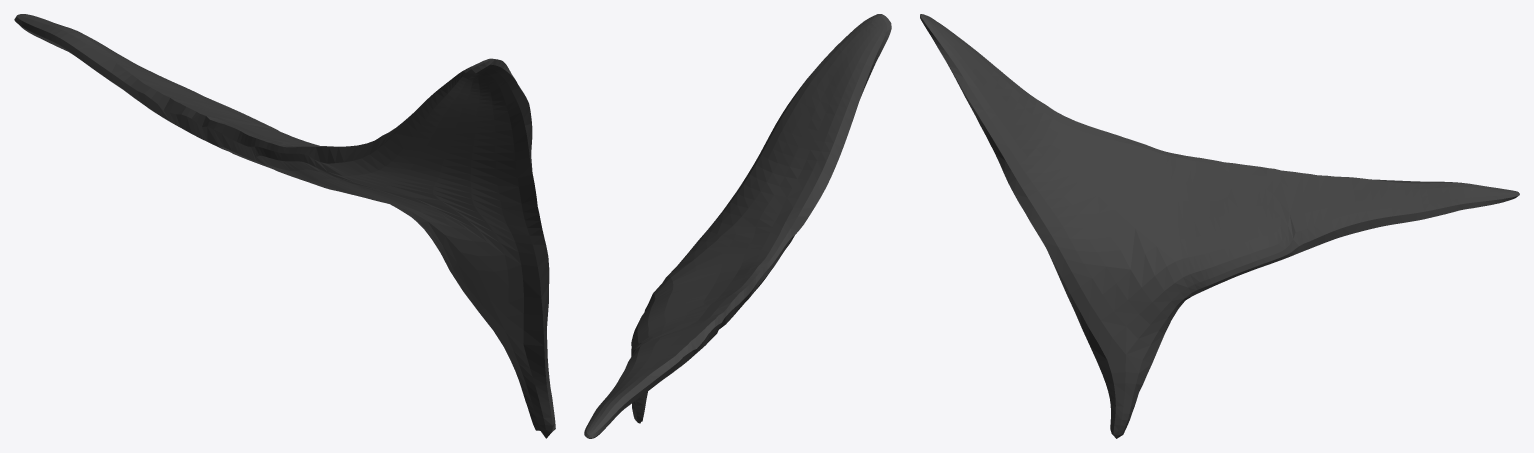
File: Trapezius.glb
3 renders of one model, left to right at view 1: azimuth 30°, elevation 25°; view 2: azimuth 150°, elevation 25°; view 3: azimuth 270°, elevation 25°, orthographic. The views are drawn at different scales.
Visible parts, largest first — view 1: Trapezius; view 2: Trapezius; view 3: Trapezius.
Part boxes in pixels (<box>): Trapezius: <box>14,14,555,438</box>; Trapezius: <box>584,14,891,438</box>; Trapezius: <box>920,14,1519,438</box>.
Size of the model in its own units: 0.4243 by 0.905 by 1.38.
Materials: 1 (1 with a texture image).
